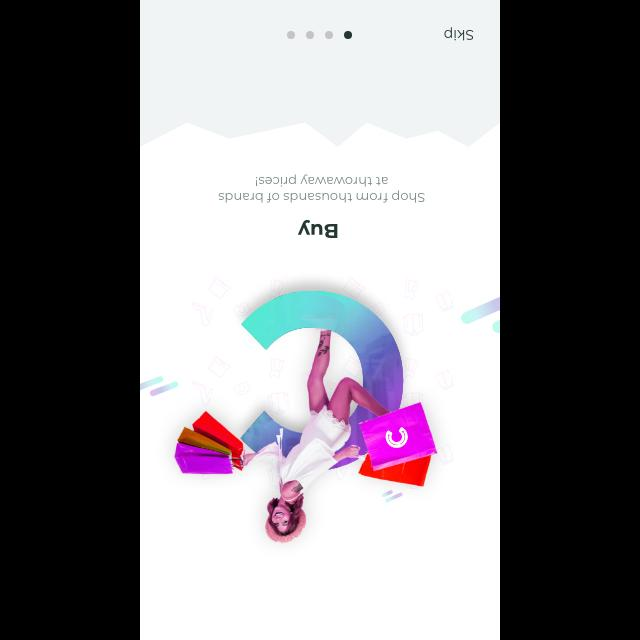image: (140, 276, 500, 544)
pageindicator: (286, 30, 352, 40)
text: (218, 173, 426, 203), (298, 218, 338, 238), (442, 26, 473, 42)
